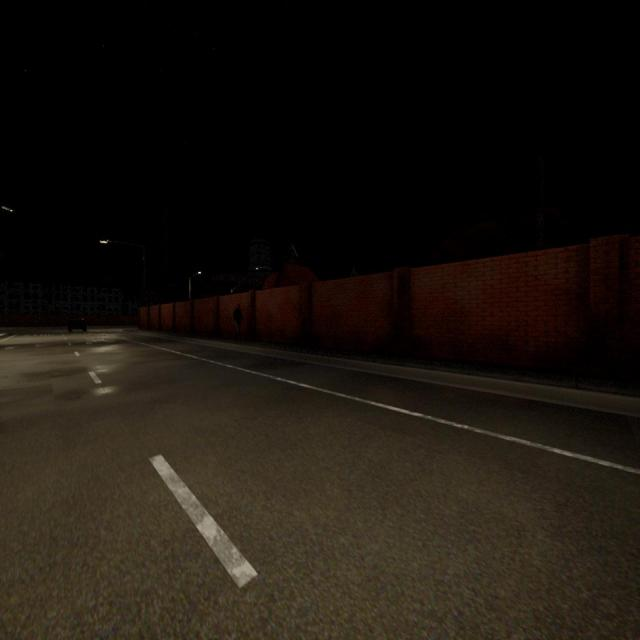Pedestrian: (233, 303, 242, 340)
Vehicle: (69, 315, 86, 332)
